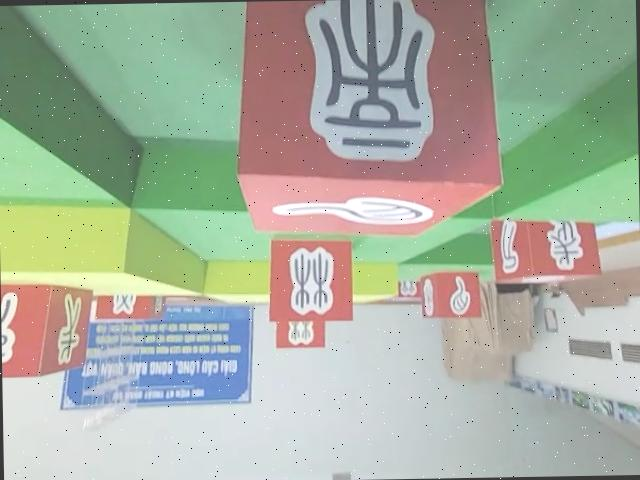R2 Fake: (231, 0, 507, 242), (1, 280, 99, 383), (489, 207, 606, 288), (266, 236, 357, 325), (418, 268, 485, 322)
